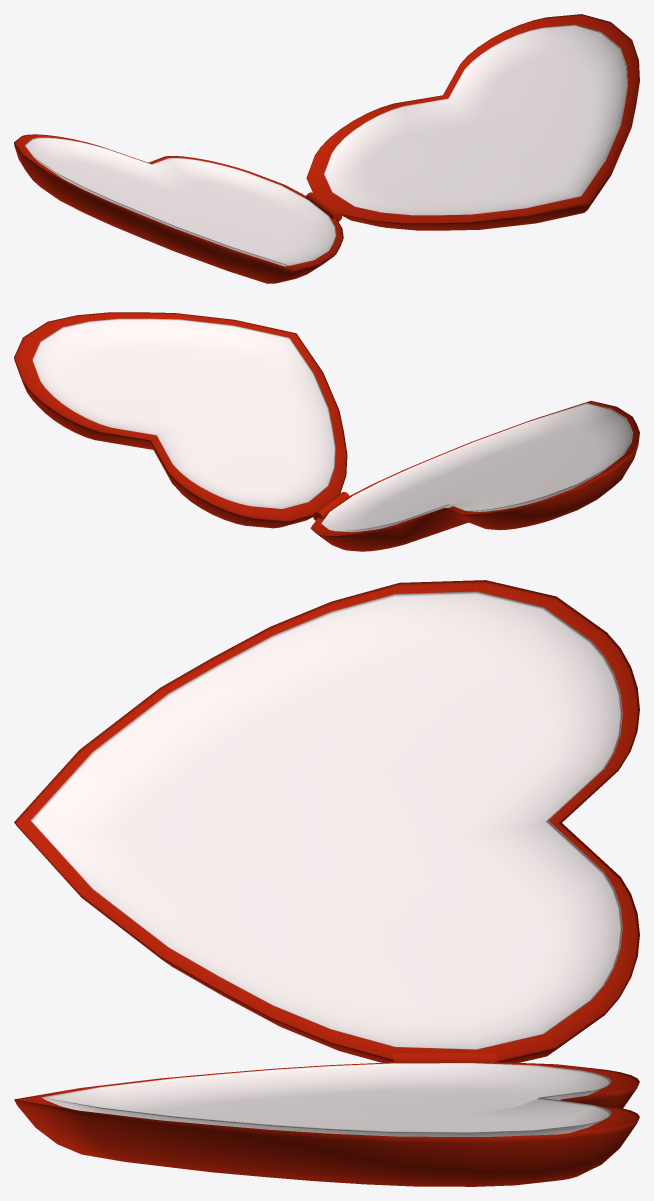
File: Heart Locket.glb
The picture shows the model from 3 angles, top to bottom: view 1: azimuth 30°, elevation 25°; view 2: azimuth 150°, elevation 25°; view 3: azimuth 270°, elevation 25°; orthographic projection. The views are drawn at different scales.
Parts seen in each view (by area): view 1: Cube_Material.001_0.004, Cube_Material.001_0.005, Cube_Material.001_0.001, Cube_Material.001_0.003, Cube, Cube_Material.001_0.002; view 2: Cube_Material.001_0.004, Cube_Material.001_0.005, Cube_Material.001_0.001, Cube_Material.001_0.003, Cube, Cube_Material.001_0.002, Cylinder; view 3: Cube_Material.001_0.005, Cube_Material.001_0.004, Cube, Cube_Material.001_0.002, Cube_Material.001_0.001, Cube_Material.001_0.003, Cylinder.
Part boxes in pixels (x1=…): Cube_Material.001_0.004: x1=324, y1=24, x2=627, y2=215; Cube_Material.001_0.005: x1=25, y1=137, x2=336, y2=266; Cube_Material.001_0.001: x1=306, y1=14, x2=639, y2=223; Cube_Material.001_0.003: x1=14, y1=143, x2=335, y2=283; Cube: x1=342, y1=105, x2=636, y2=230; Cube_Material.001_0.002: x1=14, y1=134, x2=343, y2=269; Cube_Material.001_0.004: x1=32, y1=318, x2=335, y2=508; Cube_Material.001_0.005: x1=321, y1=403, x2=632, y2=532; Cube_Material.001_0.001: x1=14, y1=312, x2=347, y2=521; Cube_Material.001_0.003: x1=311, y1=436, x2=639, y2=551; Cube: x1=14, y1=358, x2=312, y2=528; Cube_Material.001_0.002: x1=310, y1=401, x2=639, y2=535; Cylinder: x1=313, y1=492, x2=349, y2=520; Cube_Material.001_0.005: x1=30, y1=591, x2=622, y2=1049; Cube_Material.001_0.004: x1=41, y1=1063, x2=611, y2=1136; Cube: x1=14, y1=1082, x2=639, y2=1186; Cube_Material.001_0.002: x1=14, y1=580, x2=639, y2=1061; Cube_Material.001_0.001: x1=15, y1=1062, x2=639, y2=1132; Cube_Material.001_0.003: x1=15, y1=768, x2=619, y2=1062; Cylinder: x1=393, y1=1051, x2=496, y2=1063.
Size of the model in its own units: 6.56 by 1.41 by 3.23.
